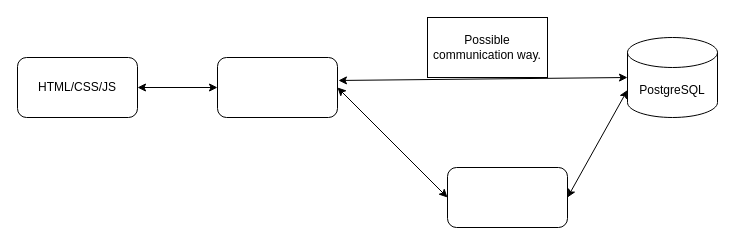
This 735x245 diagram has some shape labels left out. The shapes that lost their labels are listed below. From the top down, each one's centre as x and y in pixels, then its label:
At pixel 277 87: "Flask".
At pixel 507 197: "Python".
